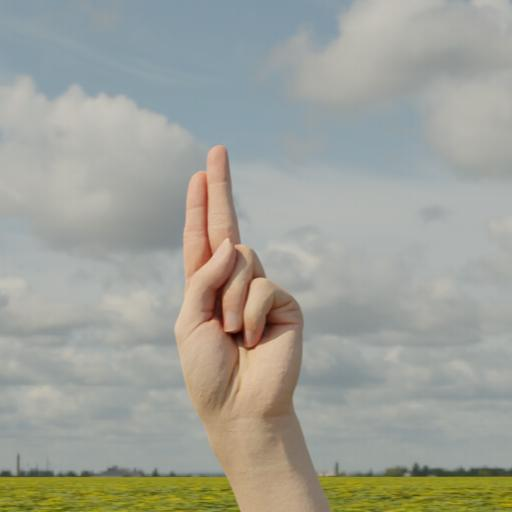U: (165, 134, 314, 440)
